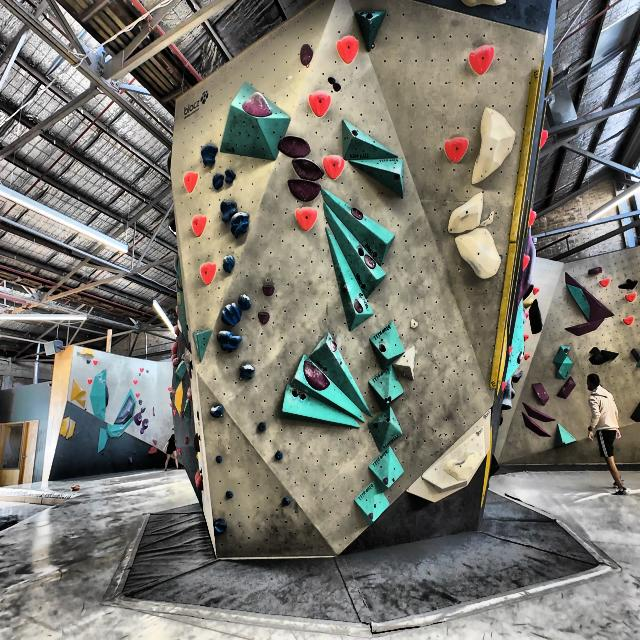-: (566, 273, 614, 321), (516, 232, 537, 308), (520, 413, 550, 439), (520, 402, 556, 422), (566, 321, 610, 336), (528, 296, 544, 336), (294, 206, 318, 232), (589, 347, 621, 366), (322, 155, 346, 180), (115, 396, 134, 425), (530, 380, 550, 405), (501, 378, 515, 410), (558, 376, 575, 400), (61, 416, 78, 439), (180, 327, 192, 353), (527, 209, 542, 229), (628, 347, 640, 369), (622, 313, 638, 329), (630, 402, 640, 425), (542, 124, 550, 150), (171, 343, 179, 368), (588, 264, 605, 275), (72, 382, 83, 398), (104, 382, 110, 410), (81, 346, 94, 358), (520, 254, 530, 268), (624, 293, 638, 303), (185, 364, 194, 379), (134, 411, 142, 427), (172, 254, 179, 272), (329, 338, 338, 352), (599, 278, 611, 288), (175, 275, 183, 290), (141, 418, 149, 432), (148, 446, 158, 457), (176, 292, 182, 307), (342, 283, 349, 294), (173, 324, 179, 336), (183, 436, 190, 446), (532, 286, 538, 297), (562, 346, 570, 354), (152, 438, 160, 446), (151, 405, 156, 417), (171, 409, 178, 417), (176, 447, 182, 455), (92, 359, 98, 366), (129, 456, 134, 464), (175, 303, 178, 315), (87, 378, 92, 384), (139, 366, 144, 372), (132, 379, 138, 384), (138, 400, 144, 405), (167, 386, 172, 392), (168, 402, 172, 408), (136, 393, 140, 398)
Hold: (475, 104, 514, 194), (452, 229, 498, 278), (445, 193, 486, 236), (443, 450, 480, 482), (290, 158, 326, 184), (288, 178, 322, 204), (468, 43, 494, 77), (304, 362, 330, 394), (276, 136, 313, 157), (242, 94, 274, 118), (306, 90, 331, 120), (442, 139, 468, 165), (336, 37, 359, 66), (231, 209, 252, 237), (217, 330, 241, 354), (218, 305, 242, 328), (200, 260, 218, 288), (190, 210, 208, 238), (299, 42, 316, 69), (200, 144, 221, 164), (217, 198, 239, 217), (181, 172, 200, 192), (213, 516, 229, 539), (362, 252, 379, 273), (239, 364, 258, 381), (221, 253, 235, 274), (194, 470, 206, 494), (210, 400, 224, 420), (352, 206, 368, 223), (406, 315, 422, 331), (237, 292, 252, 309), (190, 431, 201, 454), (211, 173, 224, 190), (256, 313, 274, 325), (261, 283, 275, 298), (280, 492, 292, 509), (352, 300, 366, 314), (272, 450, 285, 464), (227, 170, 238, 184), (256, 421, 267, 434), (224, 486, 235, 499), (214, 451, 223, 465), (186, 386, 193, 399), (392, 172, 401, 180), (379, 339, 385, 350), (348, 128, 356, 136)
